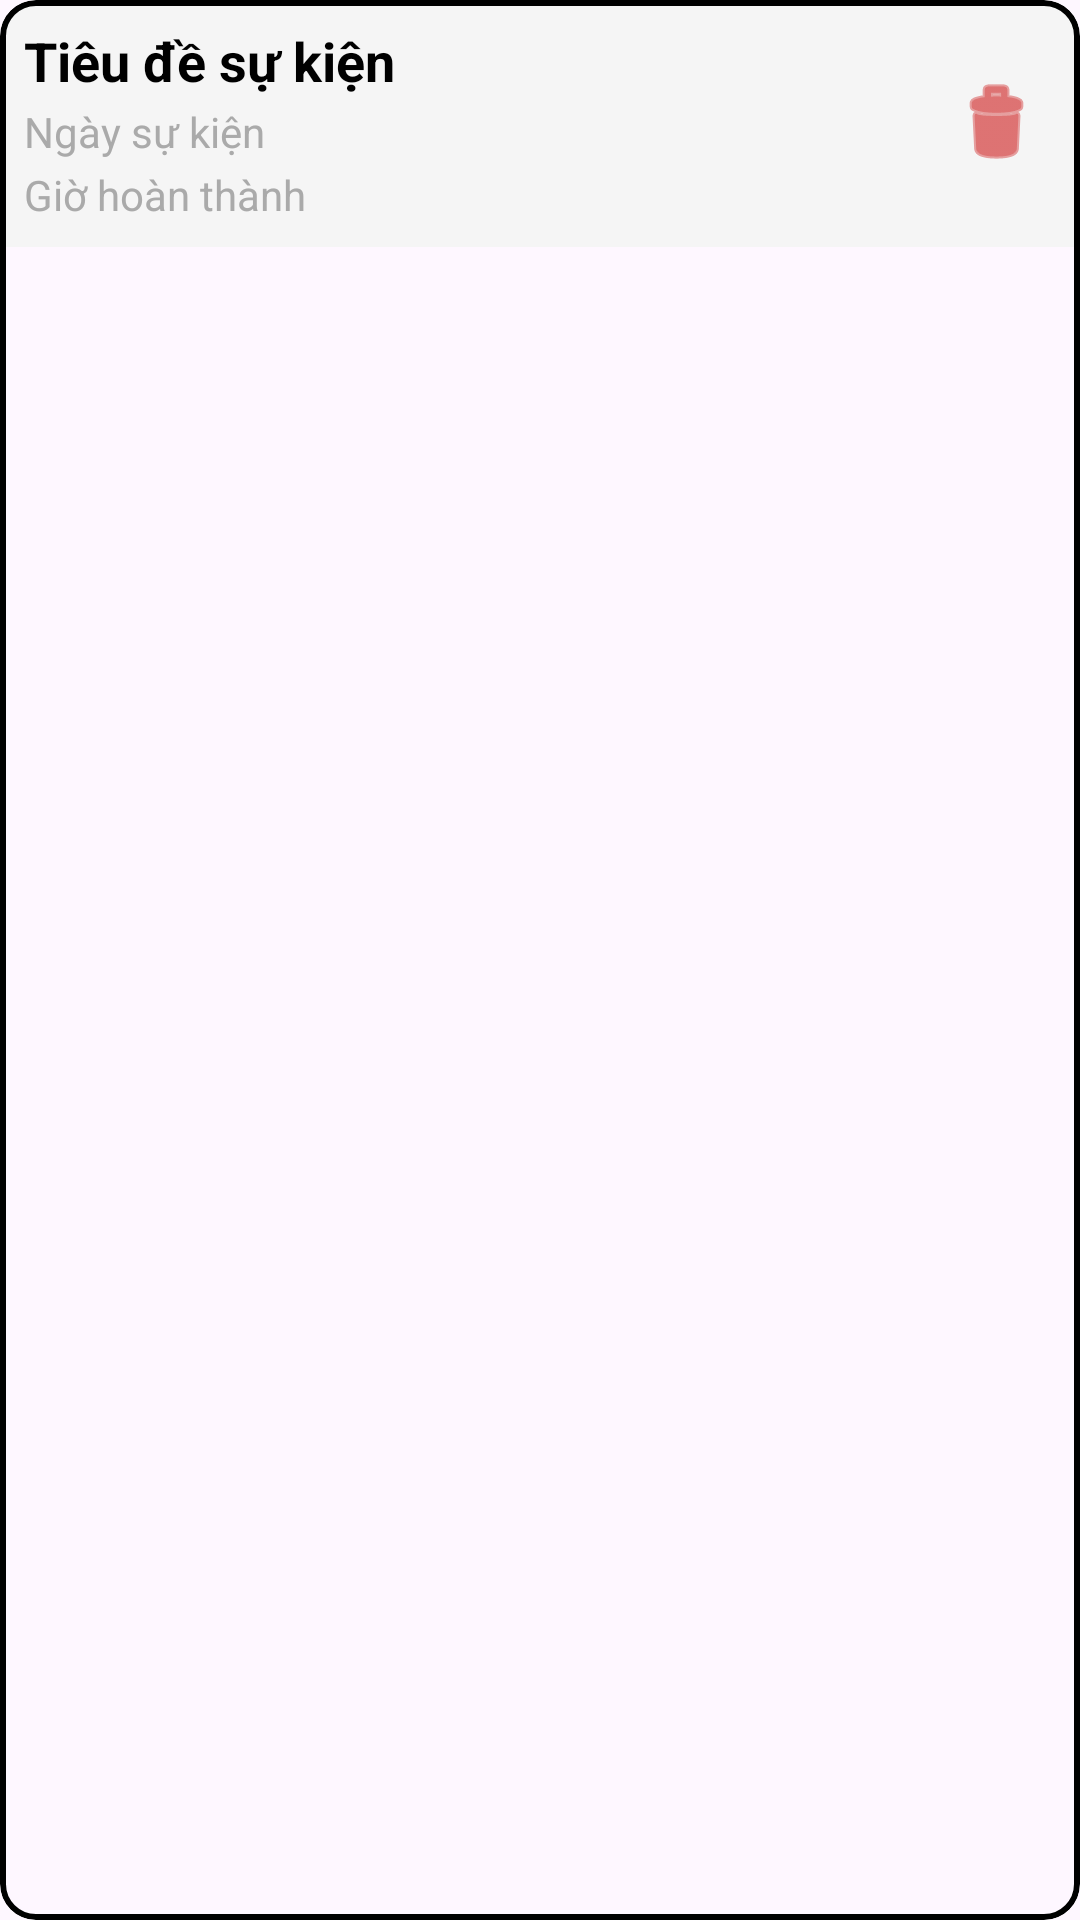

Icons on this 1080x1920 Android screen, each with the point to tap as point (x, y):
delete: point (996, 121)
